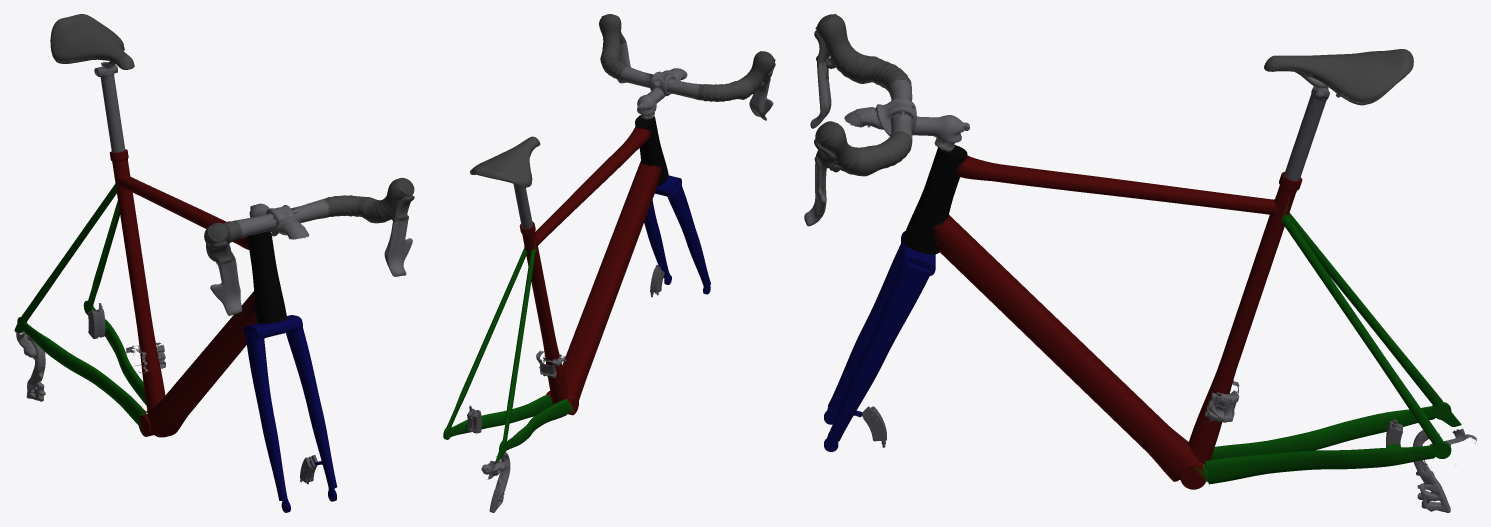
File: look785l_lod0.glb
3 views of the same model, side by side, from view 1: azimuth 30°, elevation 25°; view 2: azimuth 150°, elevation 25°; view 3: azimuth 270°, elevation 25° (orthographic). The views are drawn at different scales.
Parts seen in each view (by area): view 1: frame, cockpit, fork, saddle, seatpost, etrier_arriere; view 2: frame, cockpit, fork, saddle, seatpost; view 3: frame, cockpit, fork, saddle, seatpost.
Boxes of the visible parts, x1,y1,x2,y2 form: frame: (14, 149, 286, 437); cockpit: (204, 177, 414, 315); fork: (243, 315, 337, 512); saddle: (50, 14, 134, 69); seatpost: (94, 64, 125, 152); etrier_arriere: (87, 303, 105, 338); frame: (443, 115, 668, 512); cockpit: (599, 14, 775, 120); fork: (644, 175, 710, 294); saddle: (470, 136, 540, 187); seatpost: (513, 184, 532, 228); frame: (902, 145, 1476, 512); cockpit: (804, 14, 969, 226); fork: (824, 231, 935, 451); saddle: (1264, 49, 1413, 105); seatpost: (1284, 85, 1329, 180).
Bounding box in the file's own units: 0.475 × 0.8541 × 1.11.
